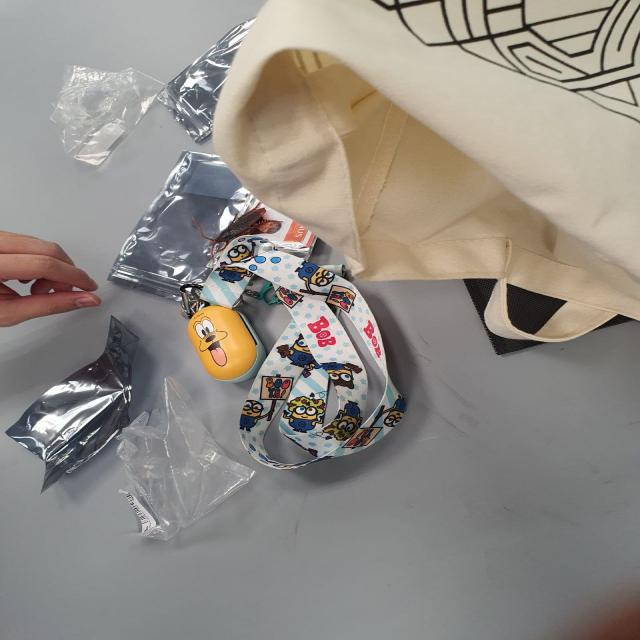Cockroach: (191, 198, 287, 243)
